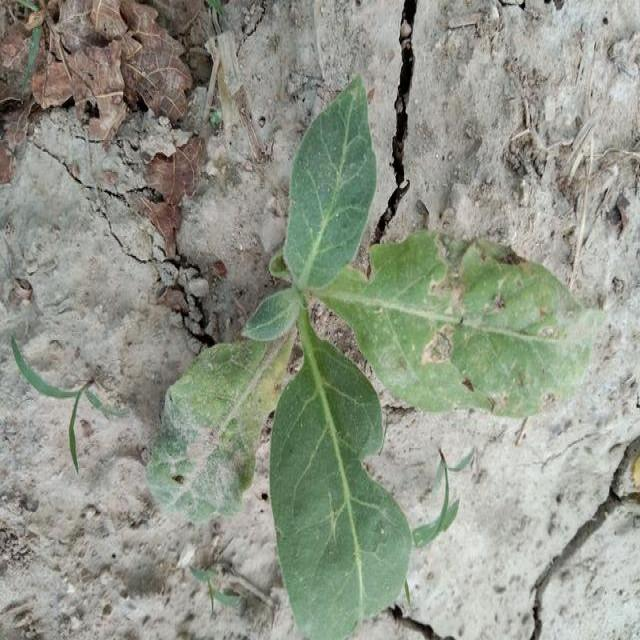crop: (151, 88, 582, 634)
